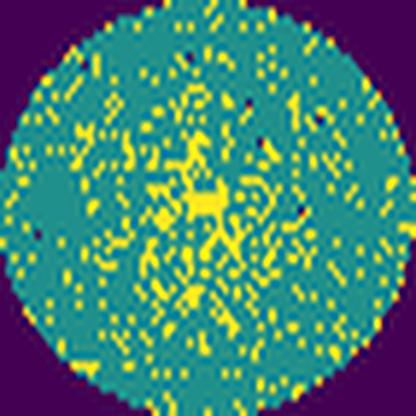Center: (177, 171, 240, 224)
